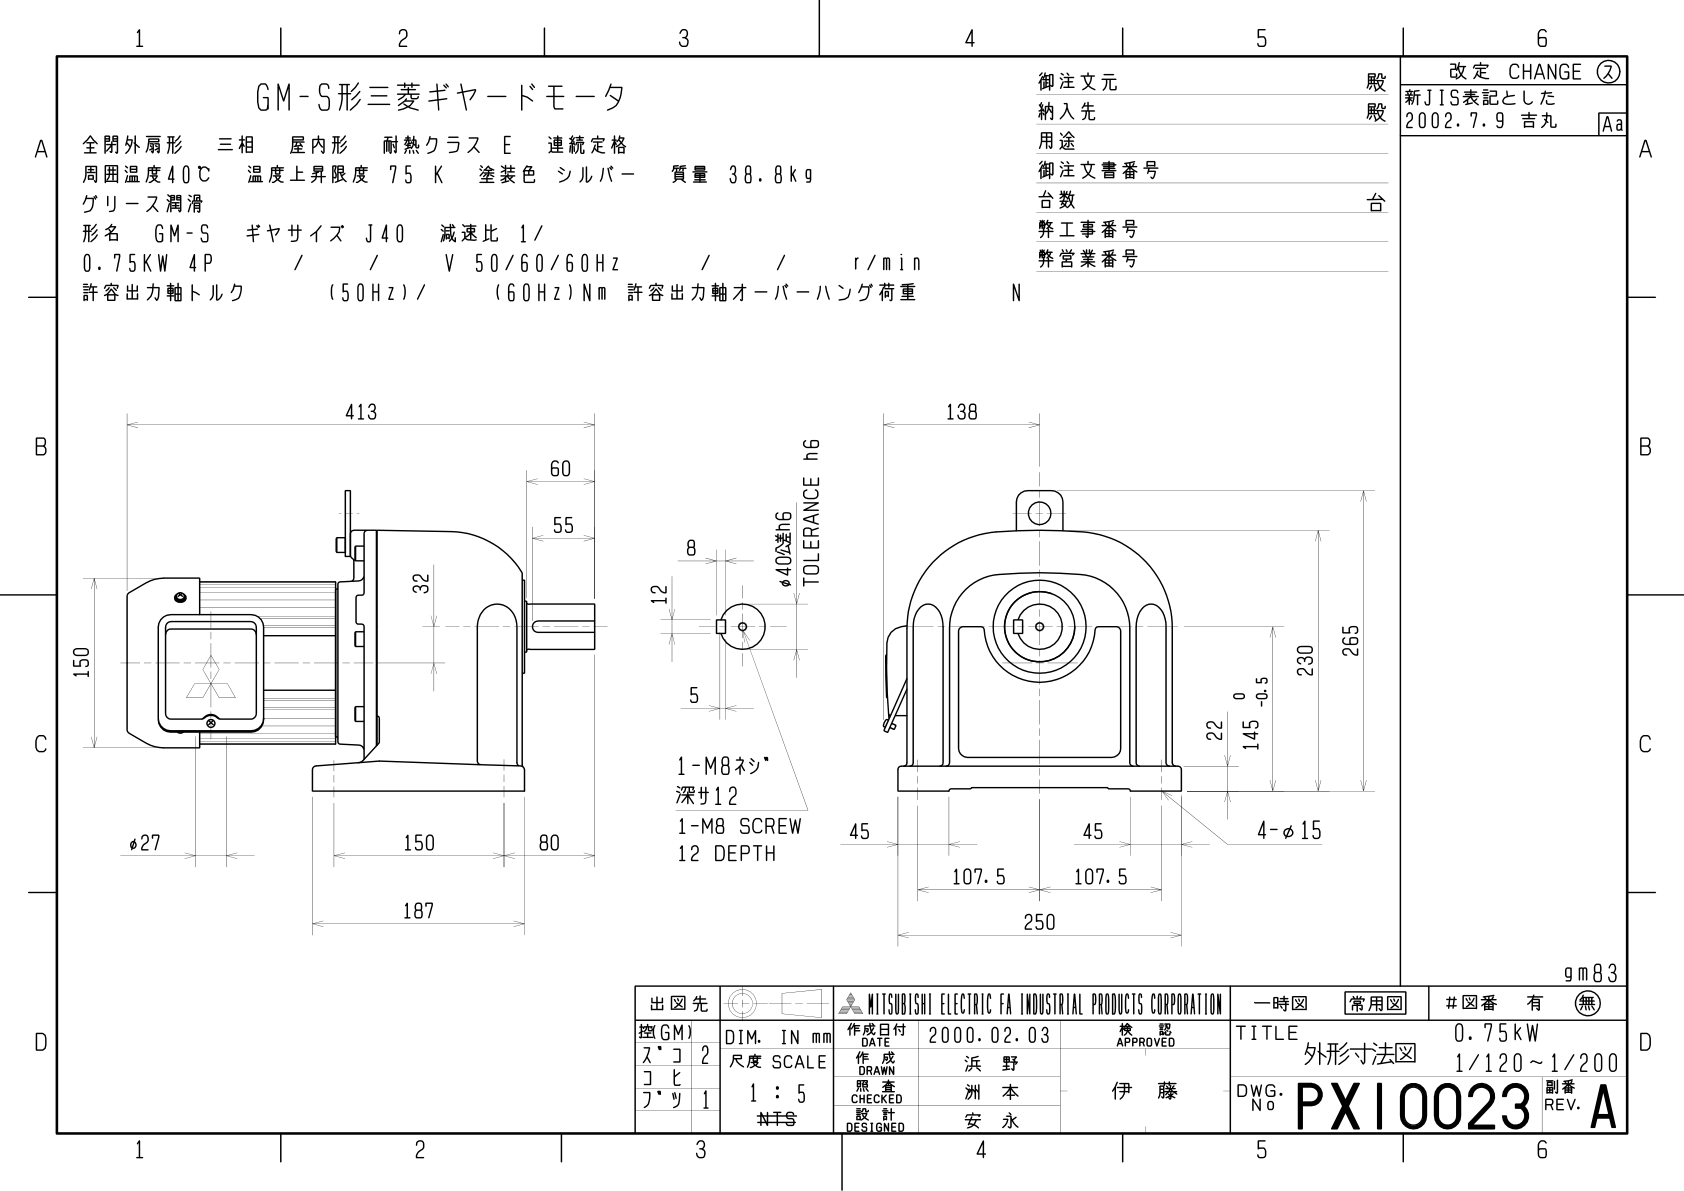GM_S_屋内＿三相_脚: (58, 367, 1381, 945)
